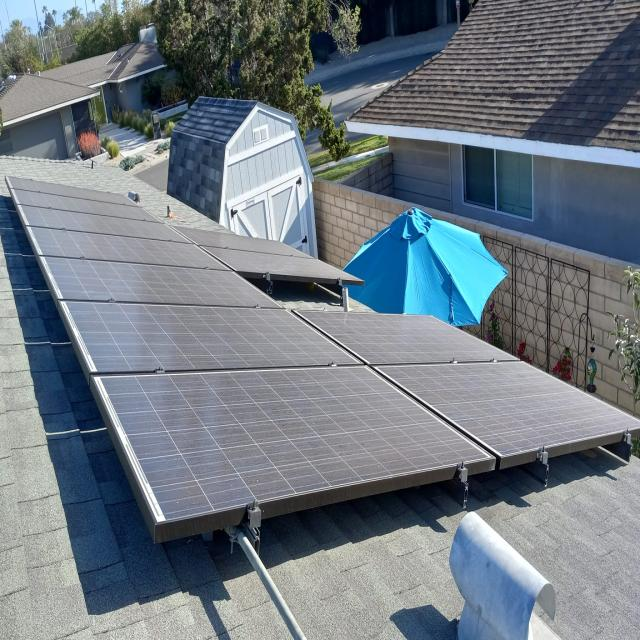dust-solar-panel: (7, 178, 640, 522)
